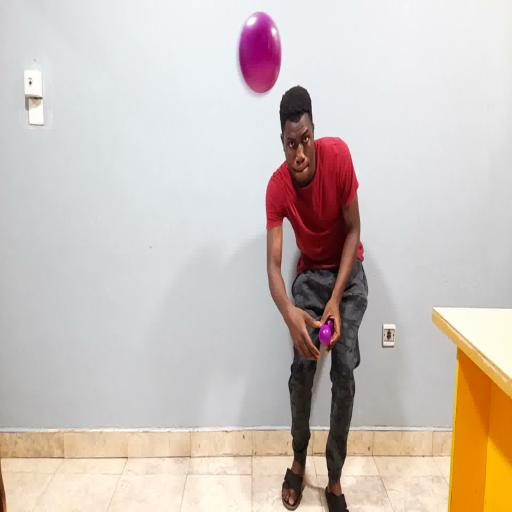plastic-ball: (235, 6, 283, 97)
